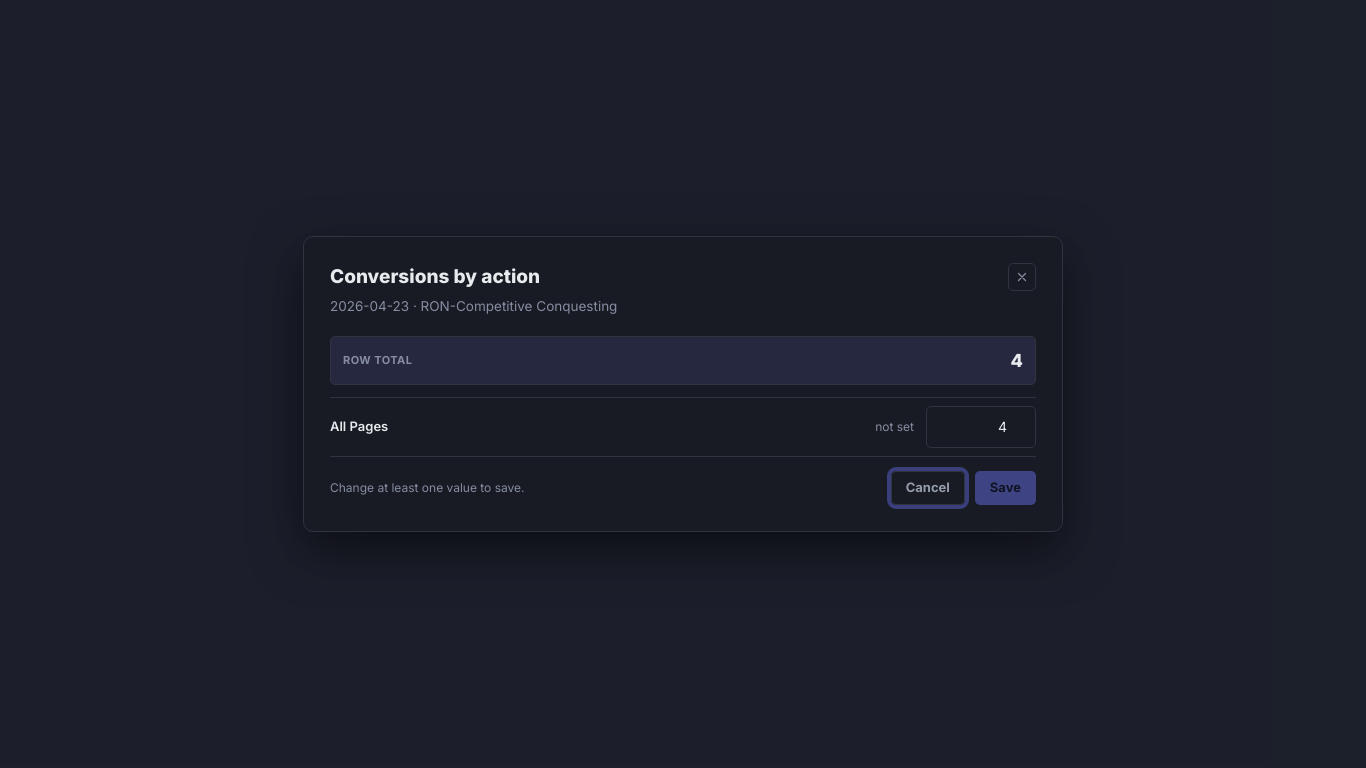
Test: ConversionsBreakdown › should keep the panel open and show why a save failed
Replace the text in the number field named "Conversions for All Pages" with "10": (981, 427) x1=926 y1=406 x2=1036 y2=448
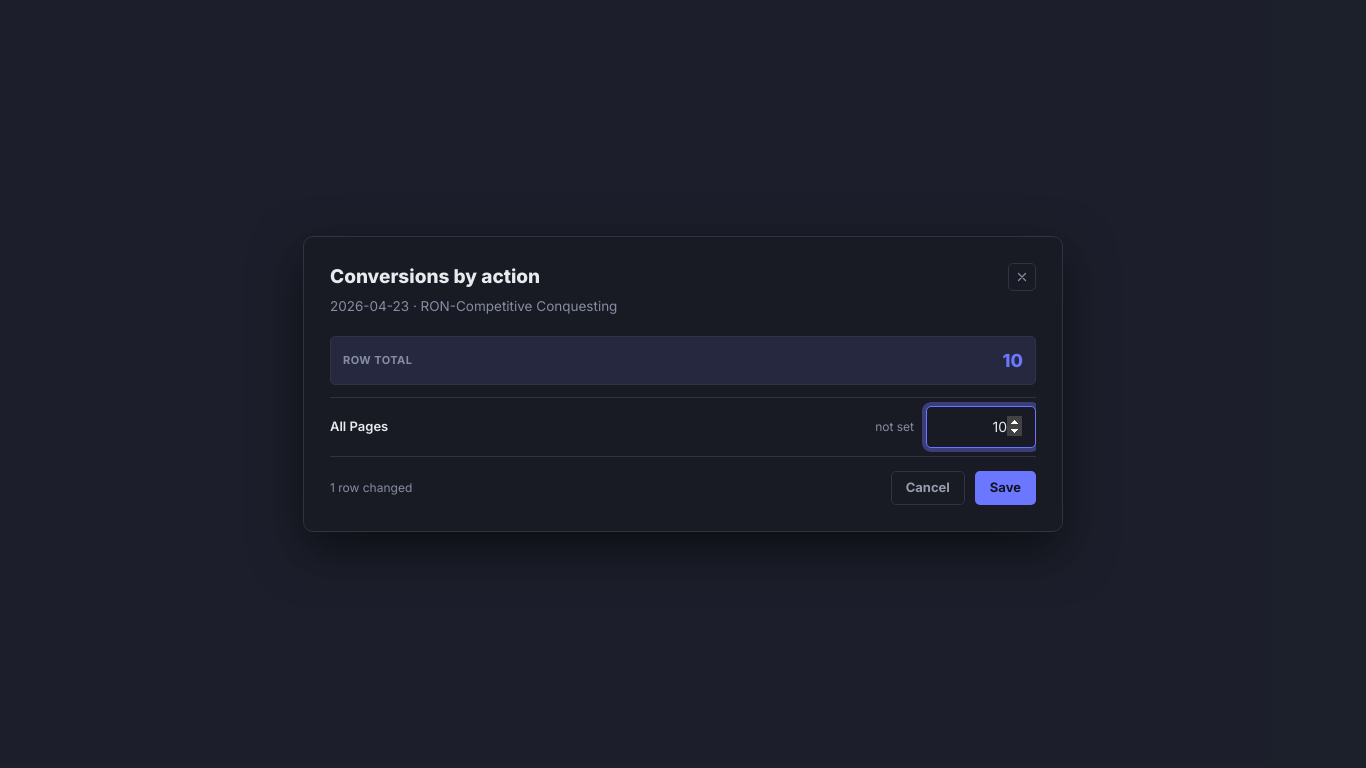
Click the button "Save": (1005, 488) x1=975 y1=471 x2=1036 y2=505
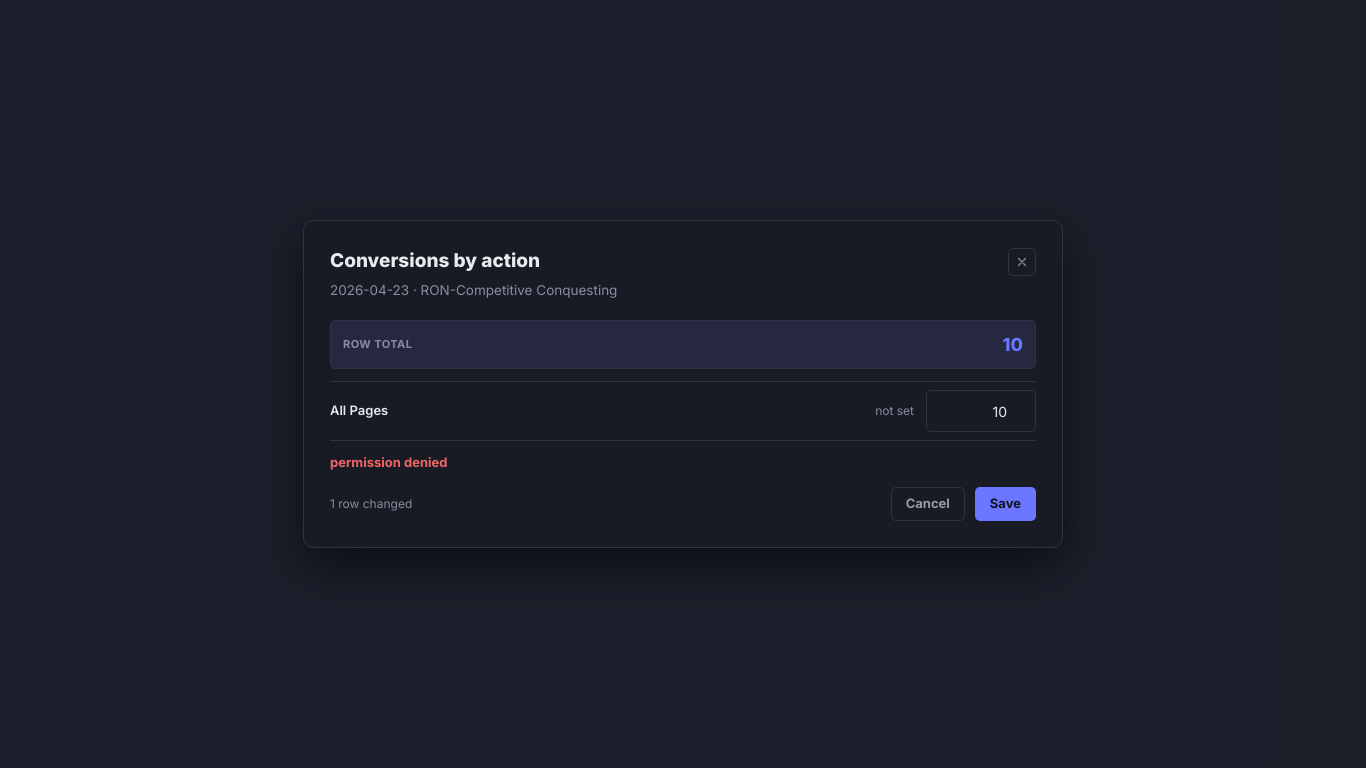
Now the text "permission denied" is shown, box x1=330 y1=454 x2=447 y2=470
